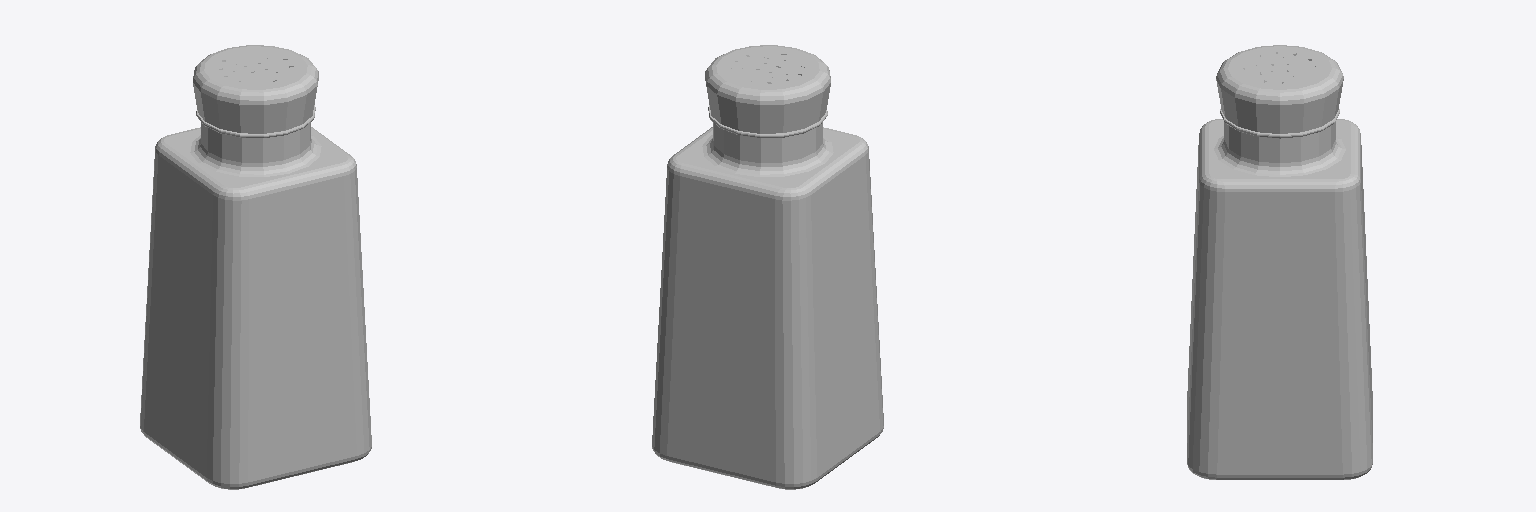
The model's file is ShakerPepper.obj.
3 renders of one model, left to right at view 1: azimuth 30°, elevation 25°; view 2: azimuth 150°, elevation 25°; view 3: azimuth 270°, elevation 25°, orthographic.
Parts seen in each view (by area): view 1: pepper_dispenser; view 2: pepper_dispenser; view 3: pepper_dispenser.
Boxes of the visible parts, box(x1,y1,x2,y2) form: pepper_dispenser: box(140, 45, 371, 489); pepper_dispenser: box(652, 45, 883, 489); pepper_dispenser: box(1187, 45, 1372, 479).
Bounding box in the file's own units: 0.046 × 0.1023 × 0.046.